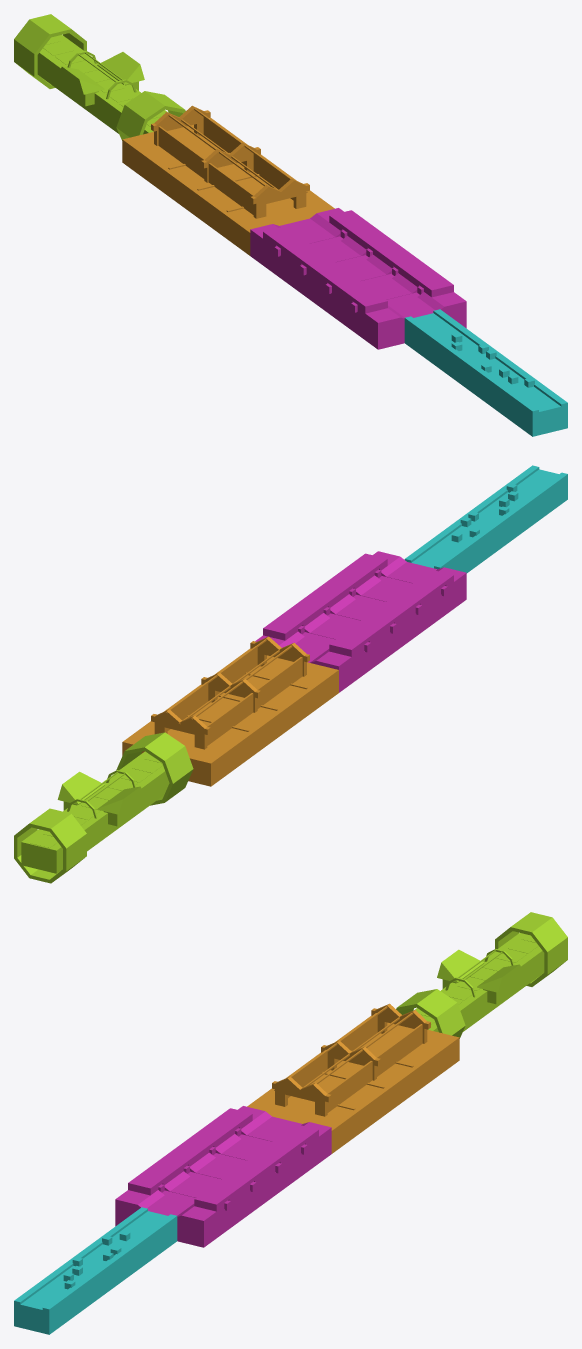
File: panels.dae
3 renders of one model, top to bottom at view 1: azimuth 30°, elevation 25°; view 2: azimuth 150°, elevation 25°; view 3: azimuth 330°, elevation 25°, orthographic.
Visible parts, largest first — view 1: Mag, Oj, Cyan, Cube (×3), Tubes, Lime, front (×2), Cube.1, front.1; view 2: Mag, Oj, Cyan, Lime, Tubes, Cube (×3), front (×2), Cube.1, front.1; view 3: Mag, Oj, Cyan, Tubes, Lime, Cube (×3), front (×2), Cube.1, front.1.
Part boxes in pixels (x1=…): Mag: x1=250, y1=208, x2=466, y2=349; Oj: x1=122, y1=118, x2=334, y2=255; Cyan: x1=404, y1=309, x2=567, y2=436; Cube (×3): x1=57, y1=52, x2=254, y2=214; Tubes: x1=14, y1=14, x2=185, y2=140; Lime: x1=37, y1=35, x2=166, y2=134; front (×2): x1=151, y1=105, x2=309, y2=218; Cube.1: x1=203, y1=115, x2=293, y2=200; front.1: x1=201, y1=142, x2=260, y2=182; Mag: x1=255, y1=551, x2=466, y2=692; Oj: x1=122, y1=648, x2=338, y2=786; Cyan: x1=404, y1=465, x2=567, y2=573; Lime: x1=21, y1=751, x2=169, y2=873; Tubes: x1=14, y1=732, x2=193, y2=883; Cube (×3): x1=57, y1=657, x2=302, y2=826; front (×2): x1=151, y1=636, x2=309, y2=749; Cube.1: x1=167, y1=646, x2=257, y2=730; front.1: x1=201, y1=672, x2=260, y2=712; Mag: x1=115, y1=1106, x2=331, y2=1247; Oj: x1=247, y1=1016, x2=459, y2=1153; Cyan: x1=14, y1=1207, x2=177, y2=1334; Tubes: x1=396, y1=912, x2=567, y2=1038; Lime: x1=415, y1=933, x2=544, y2=1032; Cube (×3): x1=288, y1=949, x2=524, y2=1097; front (×2): x1=272, y1=1003, x2=430, y2=1116; Cube.1: x1=327, y1=1024, x2=422, y2=1112; front.1: x1=321, y1=1040, x2=380, y2=1080.
Size of the model in its own units: 210 by 145 by 2000.
